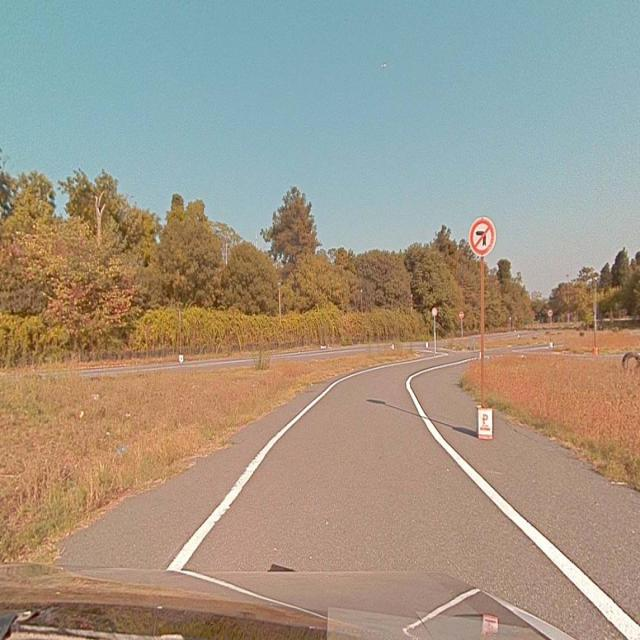soladonulmez: (470, 219, 495, 257)
